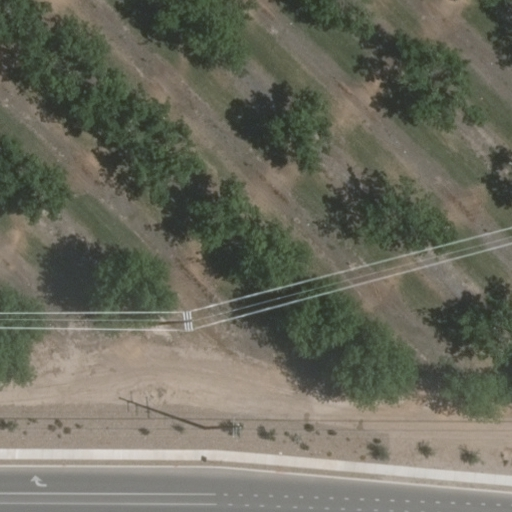DT: (146, 303, 198, 342), (197, 408, 248, 444)
